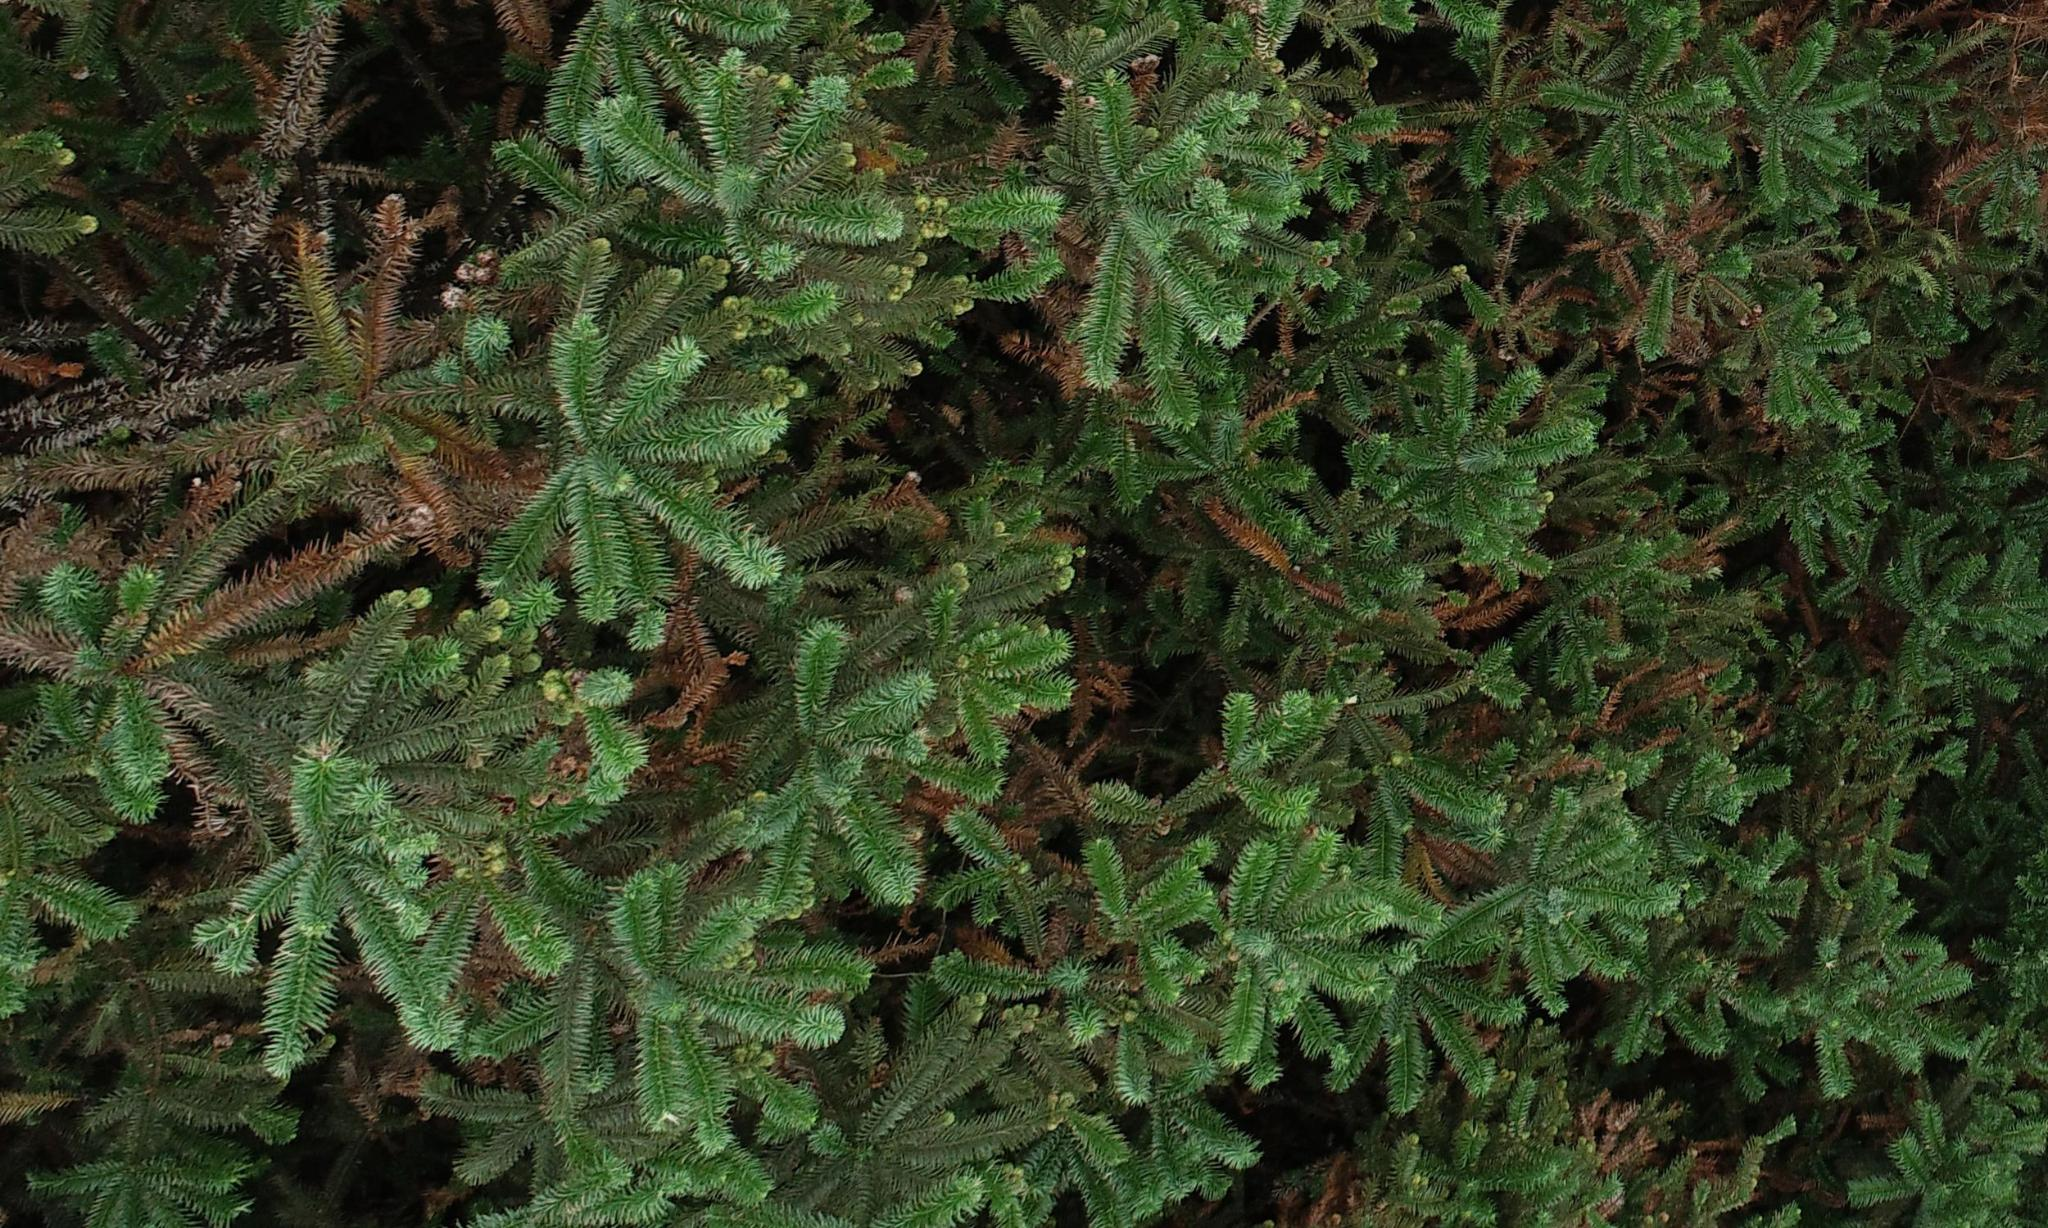light: (9, 161, 962, 1133), (1178, 4, 2048, 811), (1229, 1028, 1843, 1228)
